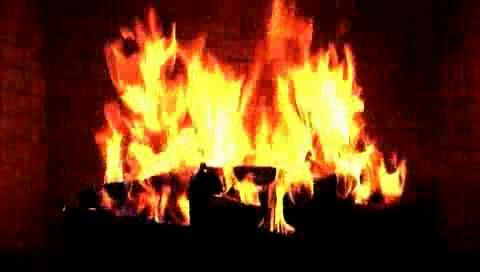fire: (90, 27, 373, 217)
